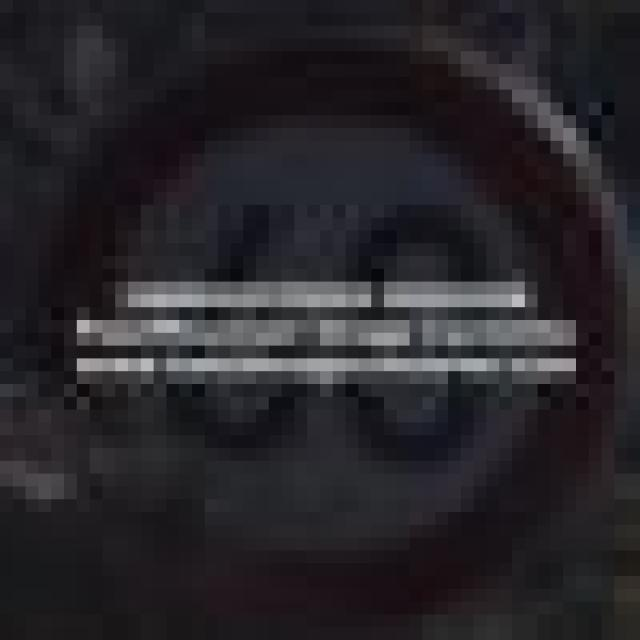speed_limit_40: (64, 38, 602, 576)
